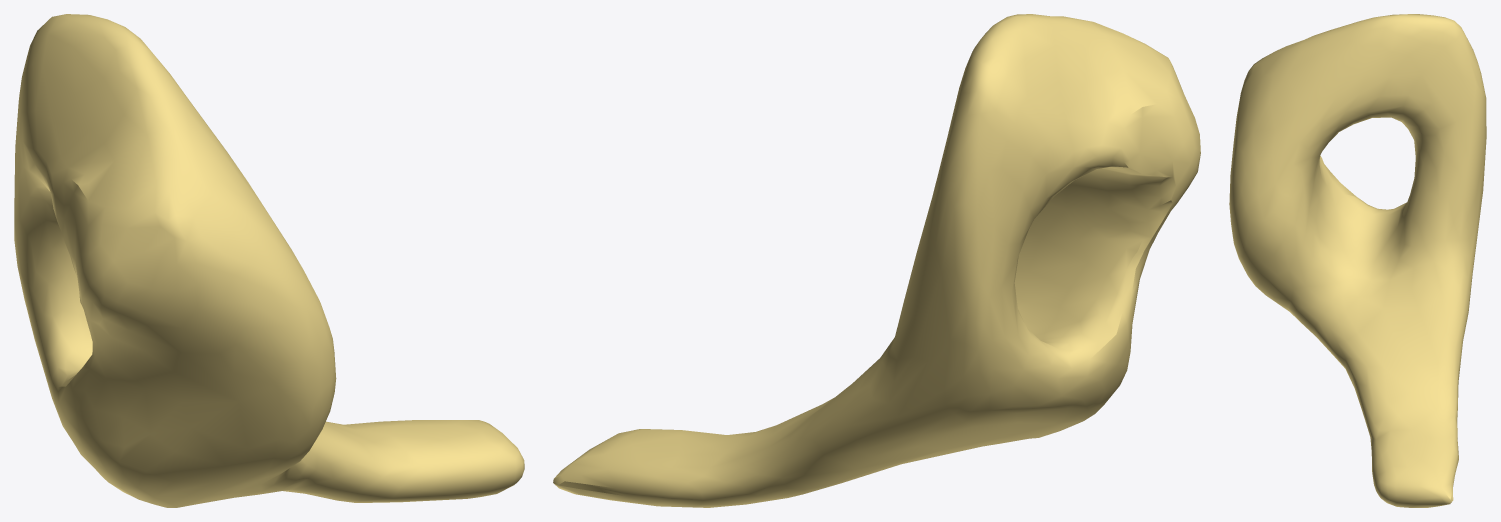
Rendered from fma72899_mm3005.glb.
3 views of the same model, side by side, from view 1: azimuth 30°, elevation 25°; view 2: azimuth 150°, elevation 25°; view 3: azimuth 270°, elevation 25° (orthographic). The views are drawn at different scales.
Visible parts, largest first — view 1: FMA72899_MM3005; view 2: FMA72899_MM3005; view 3: FMA72899_MM3005.
Boxes of the visible parts, left/top/right/bottom form: FMA72899_MM3005: left=14, top=14, right=524, bottom=507; FMA72899_MM3005: left=553, top=14, right=1200, bottom=507; FMA72899_MM3005: left=1229, top=14, right=1486, bottom=507.
Size of the model in its own units: 0.0107 by 0.0108 by 0.00685.
